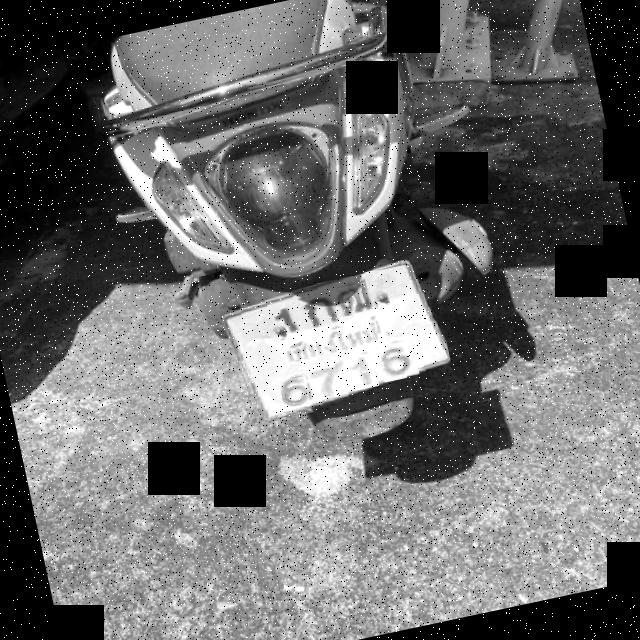letters: (376, 338, 420, 382), (331, 280, 380, 317), (304, 355, 342, 400), (297, 291, 339, 330), (268, 376, 311, 412), (348, 352, 380, 391), (271, 302, 299, 326)
license-plate: (228, 262, 451, 422)
province: (277, 319, 380, 363)
